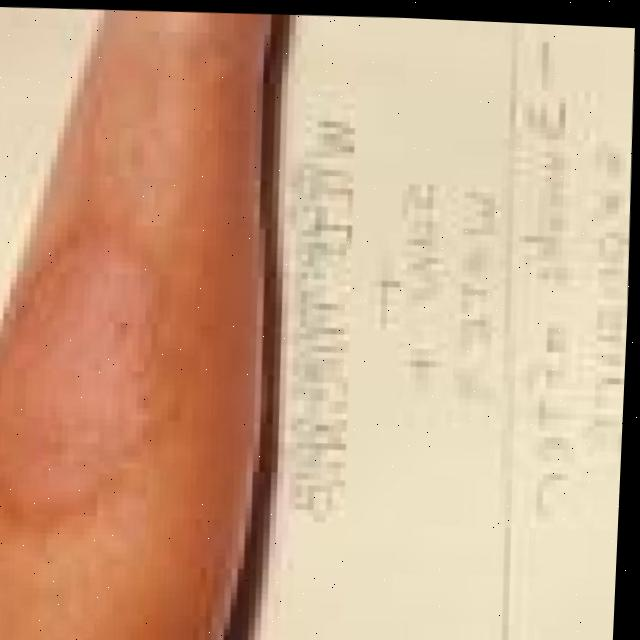Melasma: (1, 206, 154, 529)
